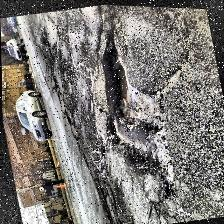pothole: (86, 39, 182, 193)
